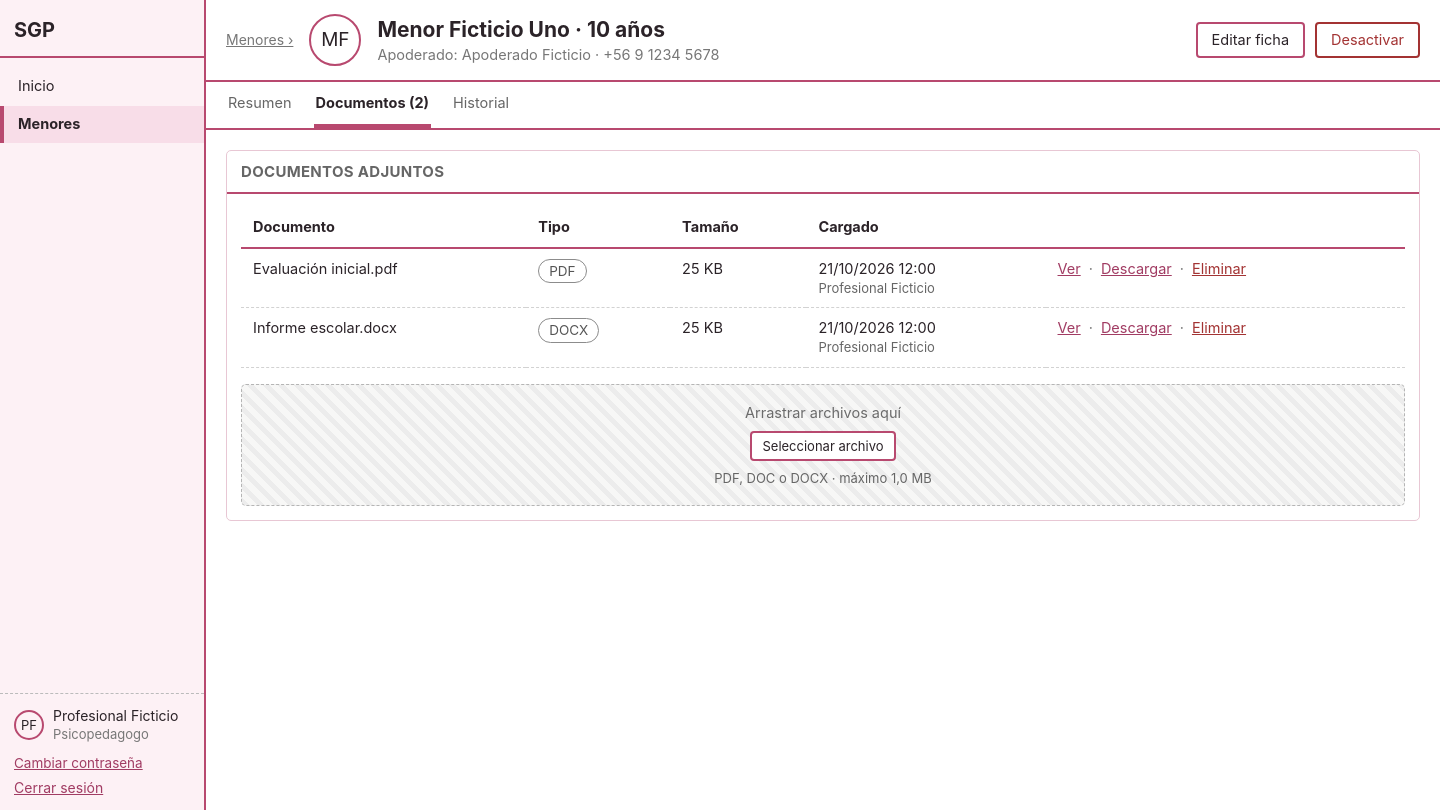
Test: Eliminación con confirmación dentro de la aplicación › cancelar conserva el documento
This screenshot has width=1440, height=810.
Expected: the tab "Documentos (2)" is shown, [314,82,431,128]
Click the button with aria-label "Eliminar Evaluación inicial.pdf". click: (1219, 269)
box: [1192,259,1246,279]
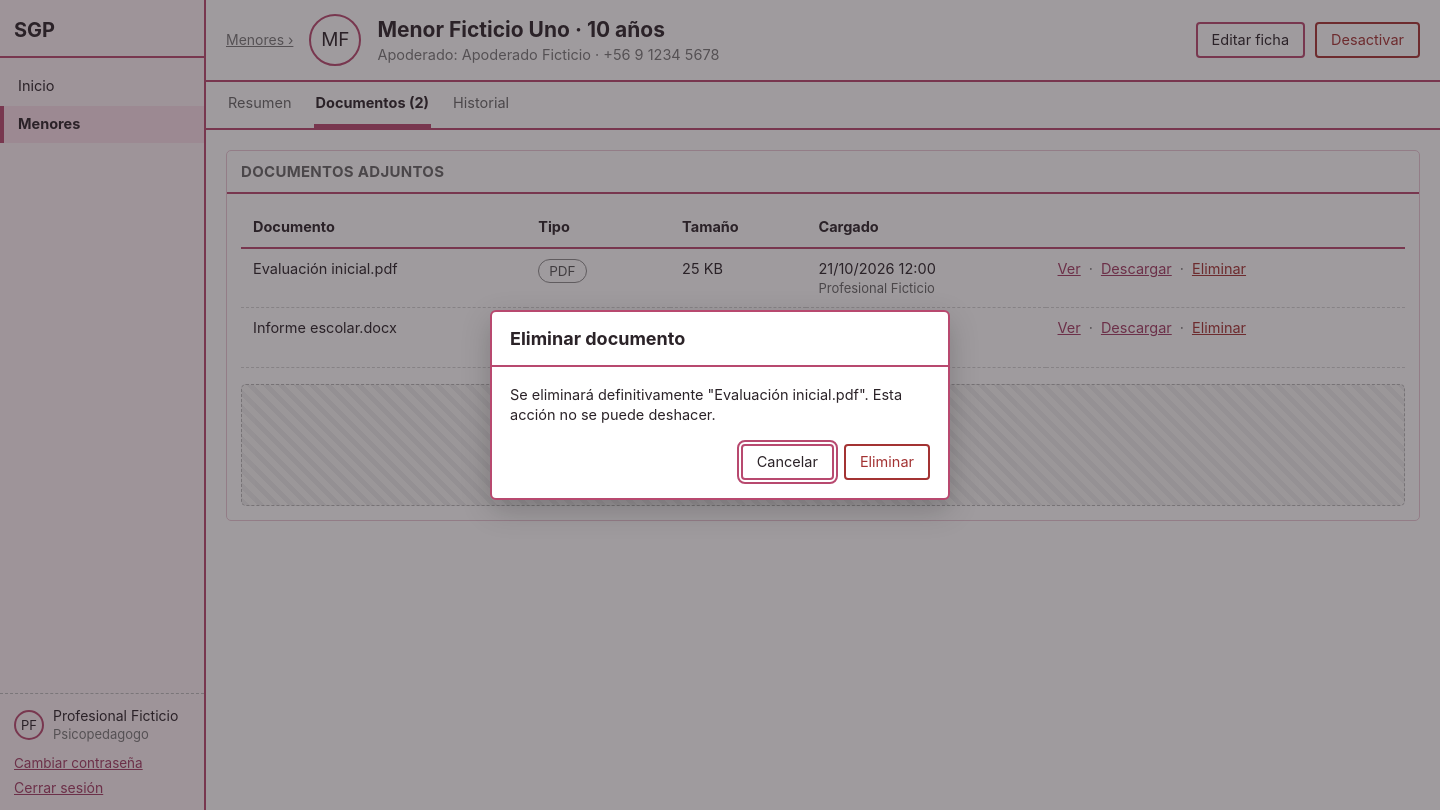
Click the button "Cancelar". click: (787, 462)
box: [741,444,834,480]
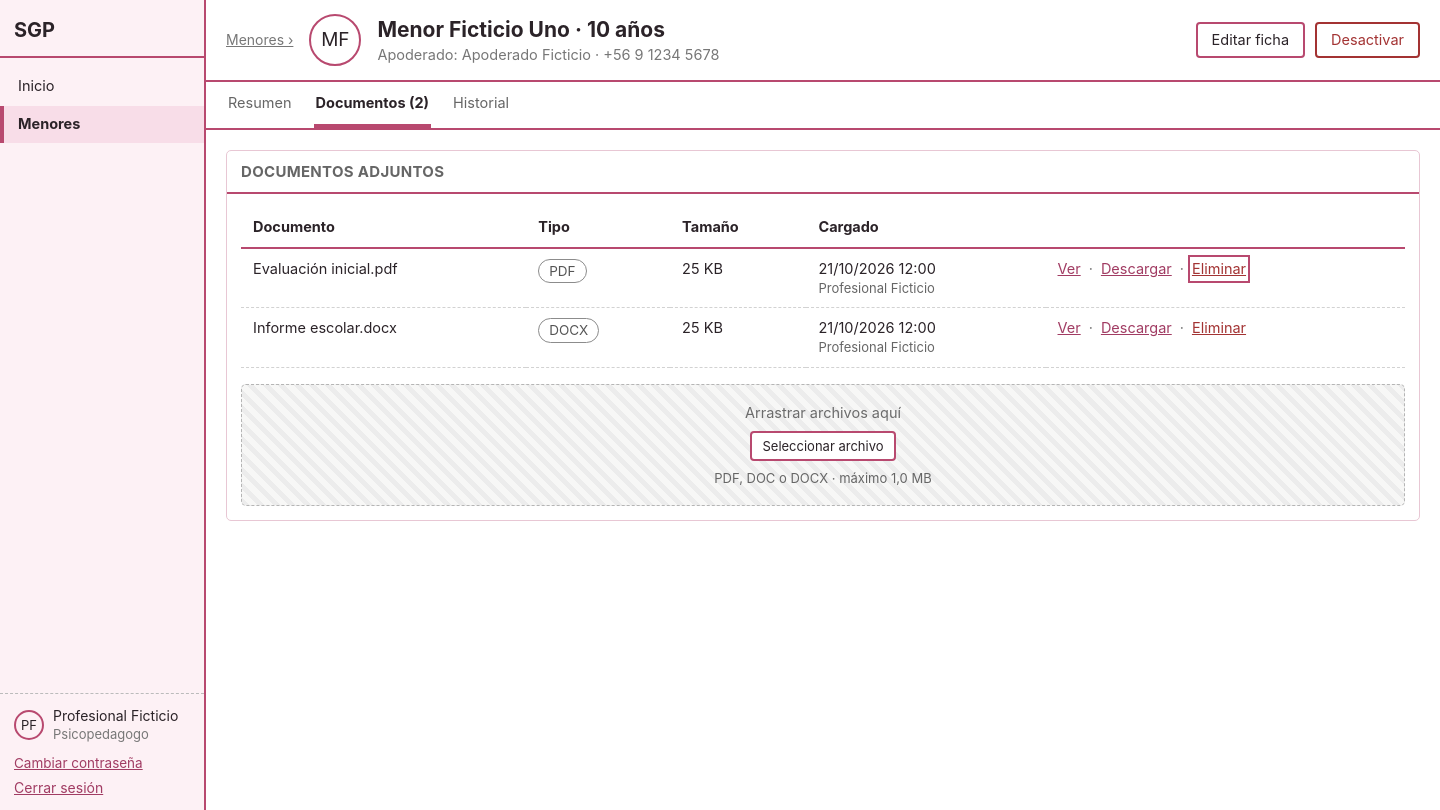
Expected: the cell "Evaluación inicial.pdf" is shown, [241,248,526,308]
Now the dialog is gone
